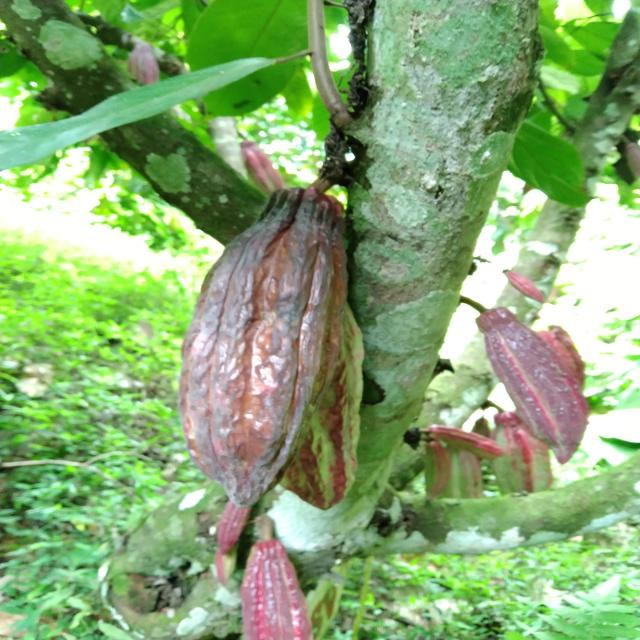Fitoftora: (182, 191, 350, 531)
Sana: (482, 309, 583, 459), (244, 546, 308, 640), (428, 422, 505, 454), (499, 268, 547, 306)
